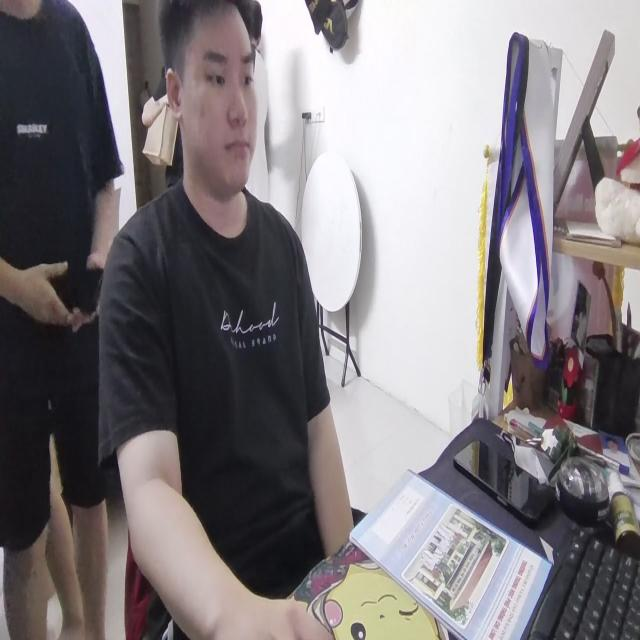book: (349, 461, 555, 640)
extra_person: (0, 0, 120, 640)
student: (96, 0, 357, 637)
